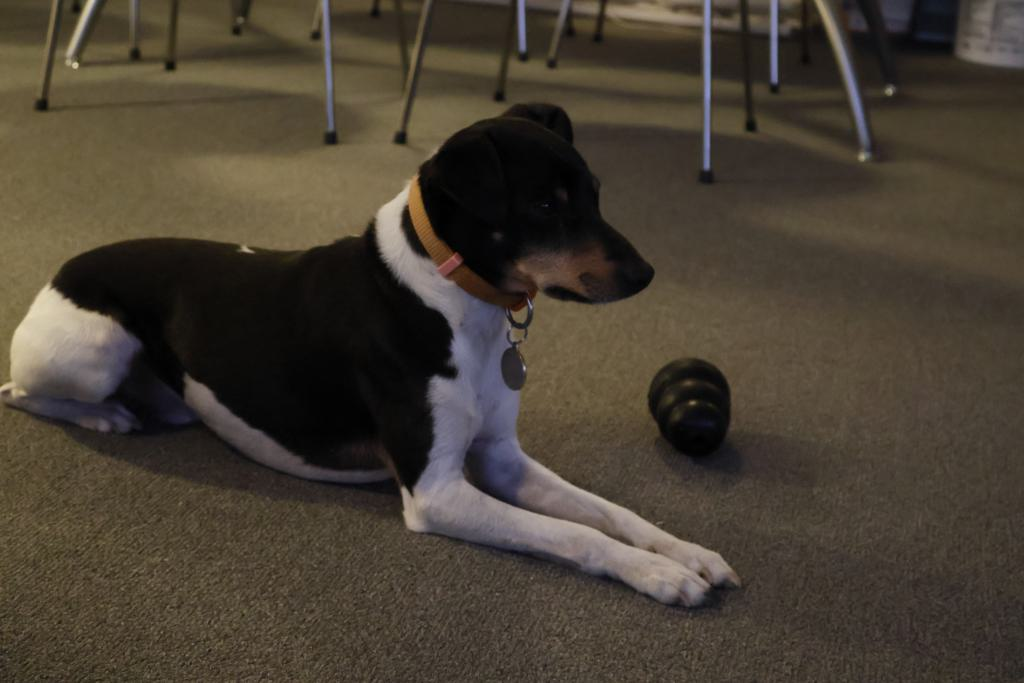Dog: (0, 96, 755, 619)
